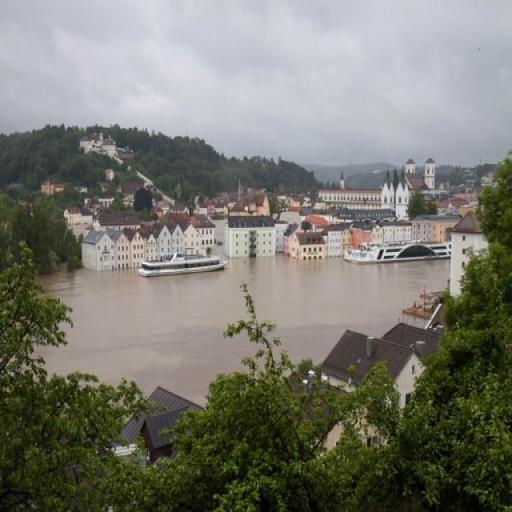flood: (39, 255, 450, 405)
house: (359, 325, 435, 418), (320, 329, 426, 389), (142, 384, 204, 465), (227, 216, 275, 258), (404, 291, 446, 333), (184, 217, 218, 260), (82, 229, 112, 273), (382, 168, 410, 206), (292, 232, 326, 260), (108, 230, 131, 268), (320, 190, 382, 204), (93, 212, 141, 230), (123, 228, 145, 267), (382, 220, 411, 244), (139, 226, 158, 262), (154, 224, 172, 258), (169, 223, 184, 259), (64, 208, 80, 224)
